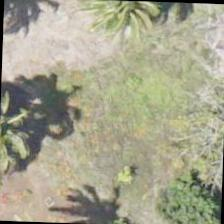Kelapa_Sawit: (78, 0, 171, 50)
